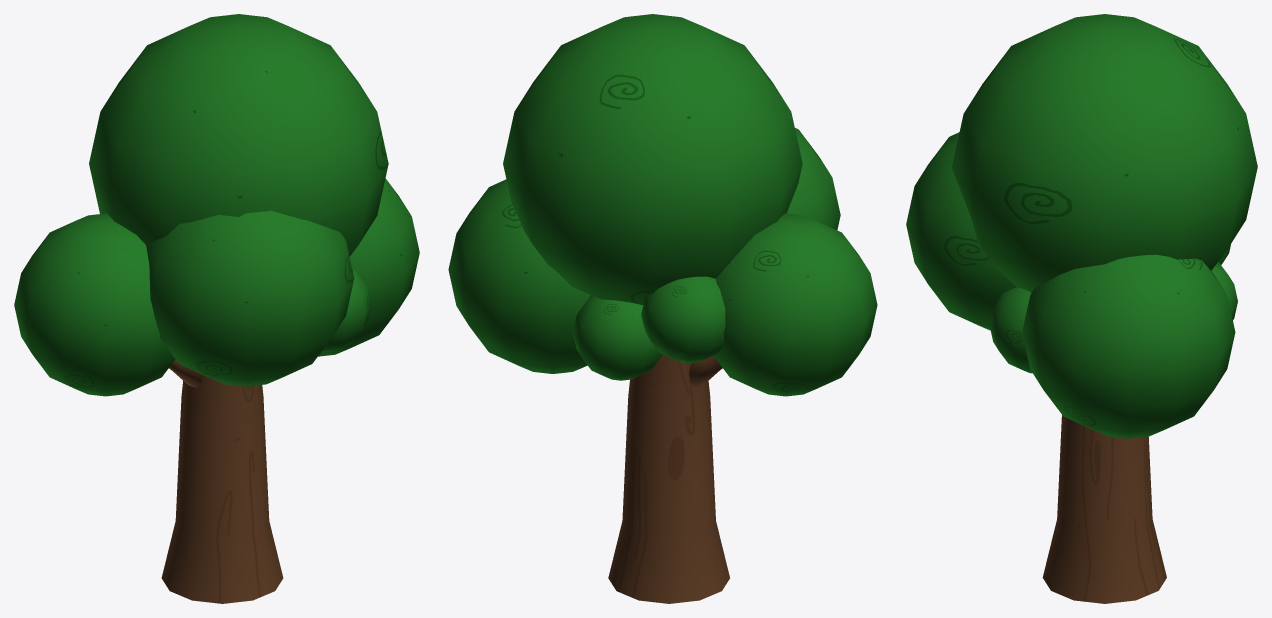
File: Tree1.fbx
3 views of the same model, side by side, from view 1: azimuth 30°, elevation 25°; view 2: azimuth 150°, elevation 25°; view 3: azimuth 270°, elevation 25° (orthographic). The views are drawn at different scales.
Parts seen in each view (by area): view 1: Sphere.006, Cylinder; view 2: Sphere.006, Cylinder; view 3: Sphere.006, Cylinder.
Part boxes in pixels (bbox=[...]): Sphere.006: bbox=[14, 14, 419, 396]; Cylinder: bbox=[161, 359, 283, 603]; Sphere.006: bbox=[448, 14, 877, 396]; Cylinder: bbox=[608, 354, 729, 603]; Sphere.006: bbox=[906, 14, 1257, 438]; Cylinder: bbox=[1042, 415, 1166, 603].
Size of the model in its own units: 261 by 348 by 199.
Materials: 2 (2 with a texture image).
